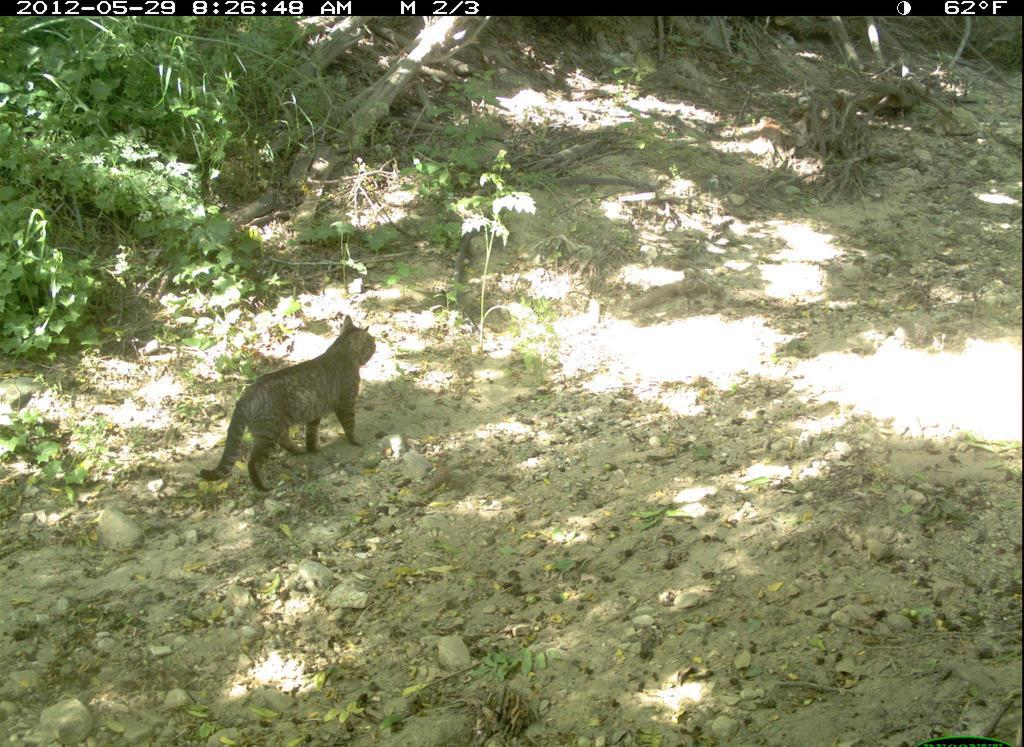cat: (201, 315, 379, 500)
